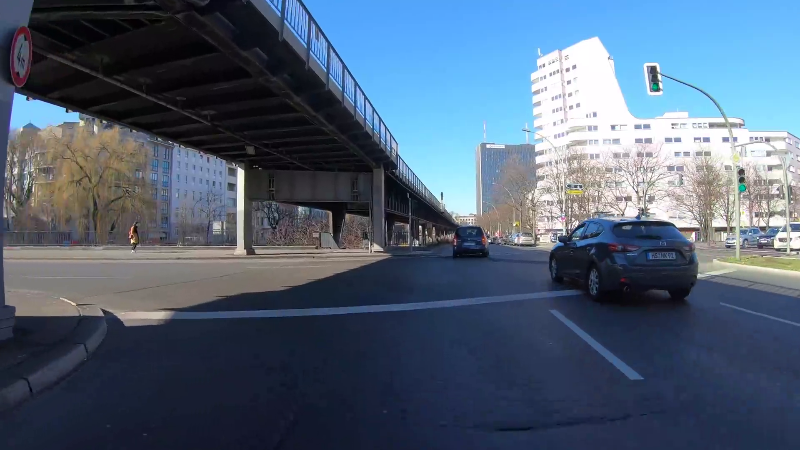Plate: (643, 249, 679, 261)
